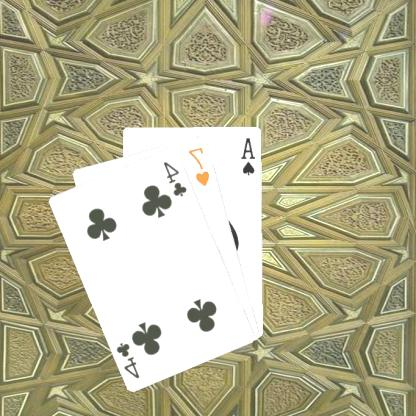4C: (116, 339, 144, 380), (162, 158, 190, 198)
7H: (187, 144, 213, 188)
AS: (240, 134, 260, 176)
